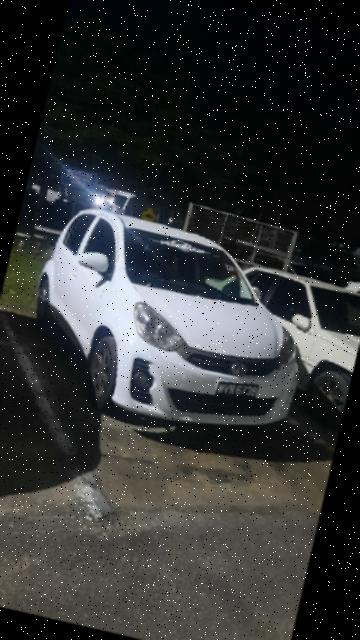License_Plate: (213, 372, 263, 406)
car: (16, 197, 332, 452)
